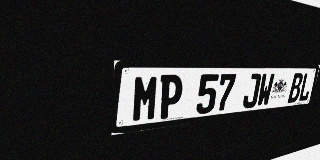5: (196, 74, 219, 115)
7: (214, 74, 236, 112)
B: (287, 73, 304, 103)
J: (242, 74, 262, 109)
L: (298, 73, 314, 102)
M: (131, 75, 160, 123)
P: (157, 75, 184, 120)
W: (256, 73, 275, 107)
